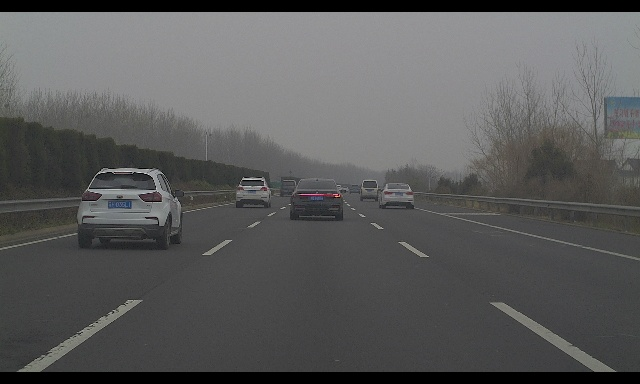car: (76, 168, 184, 250), (288, 178, 346, 221), (235, 177, 273, 208), (377, 183, 414, 209), (359, 179, 379, 201), (280, 180, 297, 196), (349, 184, 360, 194), (333, 185, 343, 193), (342, 186, 349, 193)
